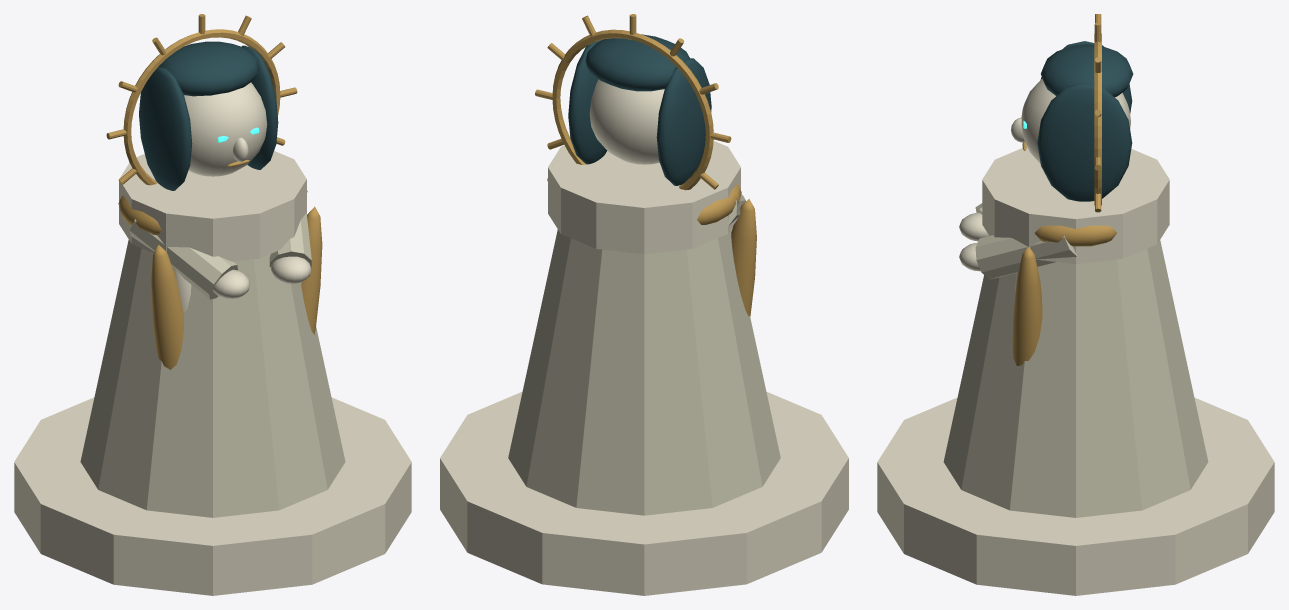
File: guardian.fbx
The picture shows the model from 3 angles, left to right: view 1: azimuth 30°, elevation 25°; view 2: azimuth 150°, elevation 25°; view 3: azimuth 270°, elevation 25°; orthographic projection. The views are drawn at different scales.
Parts seen in each view (by area): view 1: guardian_Carved limestone, guardian_Ivory limestone, guardian_Midnight teal, guardian_Aged brass; view 2: guardian_Carved limestone, guardian_Ivory limestone, guardian_Midnight teal, guardian_Aged brass; view 3: guardian_Ivory limestone, guardian_Carved limestone, guardian_Midnight teal, guardian_Aged brass.
Part boxes in pixels (x1=…): guardian_Carved limestone: x1=14, y1=82, x2=411, y2=595; guardian_Ivory limestone: x1=80, y1=213, x2=345, y2=517; guardian_Midnight teal: x1=139, y1=41, x2=278, y2=190; guardian_Aged brass: x1=106, y1=14, x2=322, y2=369; guardian_Carved limestone: x1=440, y1=79, x2=848, y2=595; guardian_Ivory limestone: x1=508, y1=194, x2=780, y2=515; guardian_Midnight teal: x1=568, y1=34, x2=711, y2=185; guardian_Aged brass: x1=535, y1=14, x2=756, y2=316; guardian_Ivory limestone: x1=943, y1=203, x2=1208, y2=517; guardian_Carved limestone: x1=877, y1=78, x2=1274, y2=595; guardian_Midnight teal: x1=1037, y1=41, x2=1133, y2=201; guardian_Aged brass: x1=1012, y1=14, x2=1116, y2=365.
Size of the model in its own units: 360 by 488 by 360.
